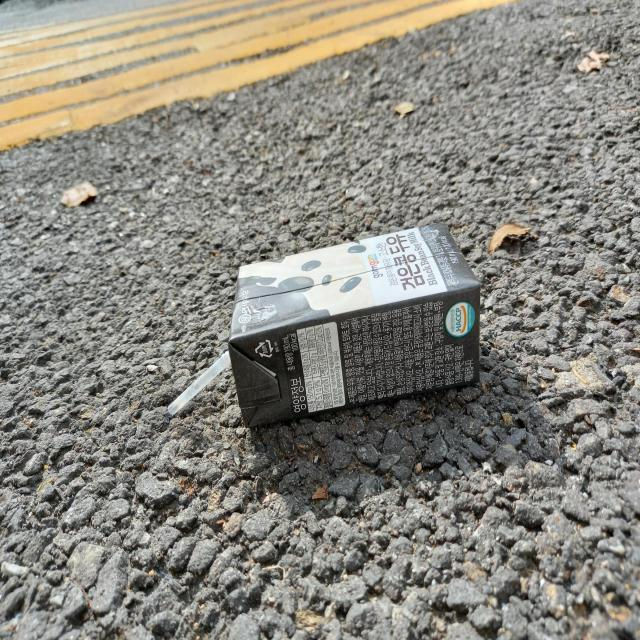paperpack: (228, 223, 480, 427)
